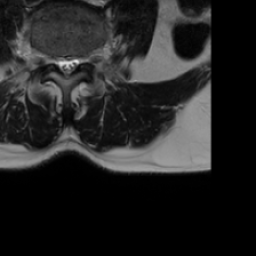CCS_normal: (62, 48, 71, 83)
LFS_stenosis: (80, 44, 88, 71)
LLS_normal: (71, 48, 80, 77)
RFS_stenosis: (46, 45, 54, 72)
RLS_normal: (54, 48, 62, 77)
